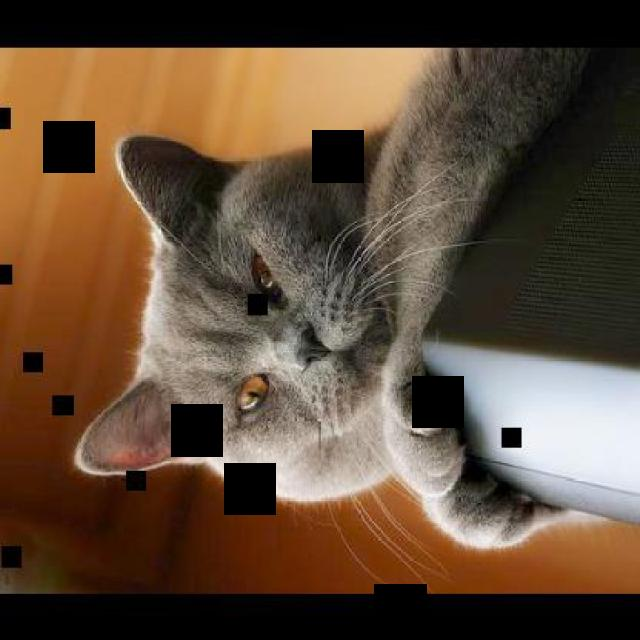unauthorized: (71, 46, 638, 591)
